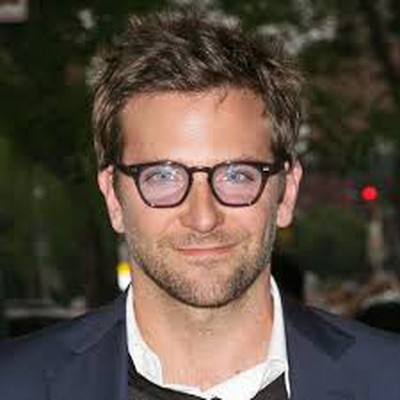eywear: (82, 121, 299, 221)
